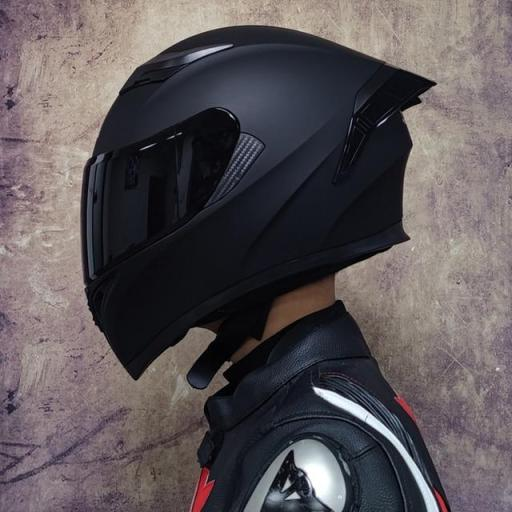Helmet: (63, 15, 419, 366)
